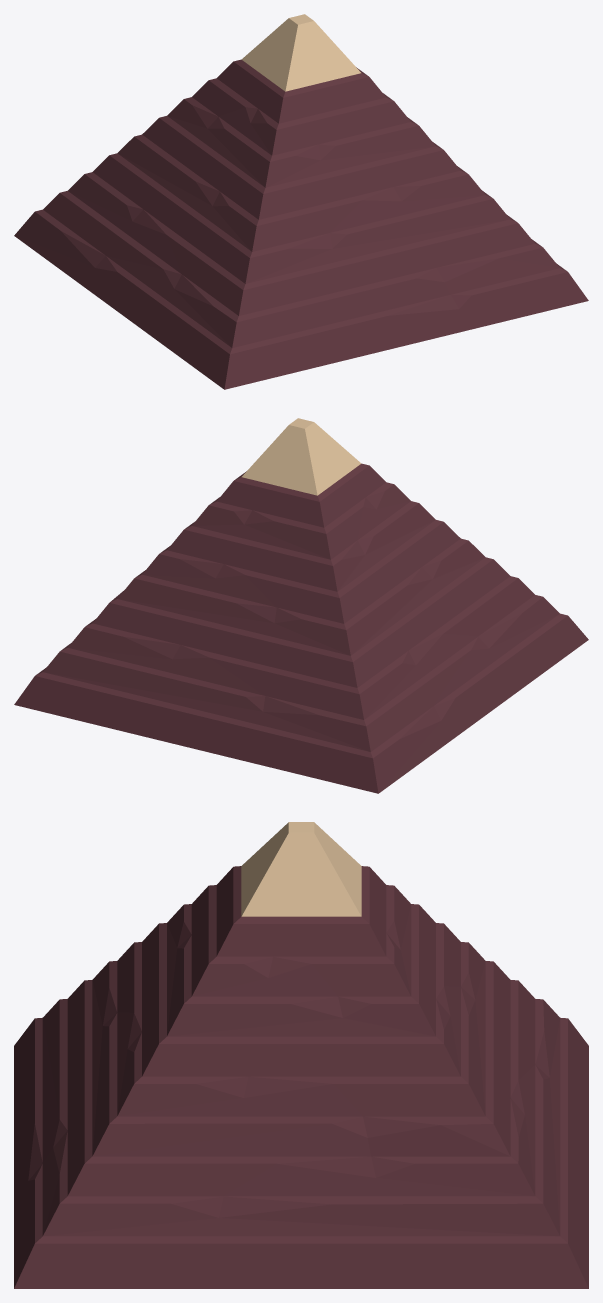
Rendered from paramid.fbx.
The picture shows the model from 3 angles, top to bottom: view 1: azimuth 30°, elevation 25°; view 2: azimuth 150°, elevation 25°; view 3: azimuth 270°, elevation 25°; orthographic projection. The views are drawn at different scales.
Parts seen in each view (by area): view 1: paramid; view 2: paramid; view 3: paramid.
Boxes of the visible parts, x1,y1,x2,y2 form: paramid: (14, 14, 588, 389); paramid: (14, 418, 588, 793); paramid: (14, 822, 588, 1288).
Bounding box in the file's own units: 60 × 39.14 × 60.
